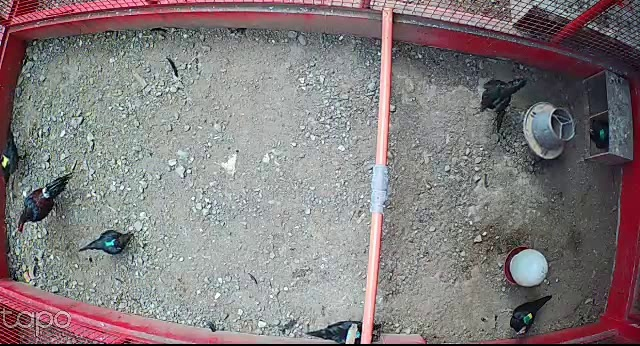Chicken: (475, 77, 529, 131), (501, 294, 556, 336), (304, 318, 385, 346), (1, 128, 29, 188), (79, 229, 135, 258)
Drinker: (504, 244, 549, 289)
Feeder: (523, 101, 574, 159)
Rooster: (15, 172, 73, 235)
Saddle_Color_Yellow: (2, 155, 9, 167)
Saddle_Color_YellowGreen: (524, 312, 532, 322)
